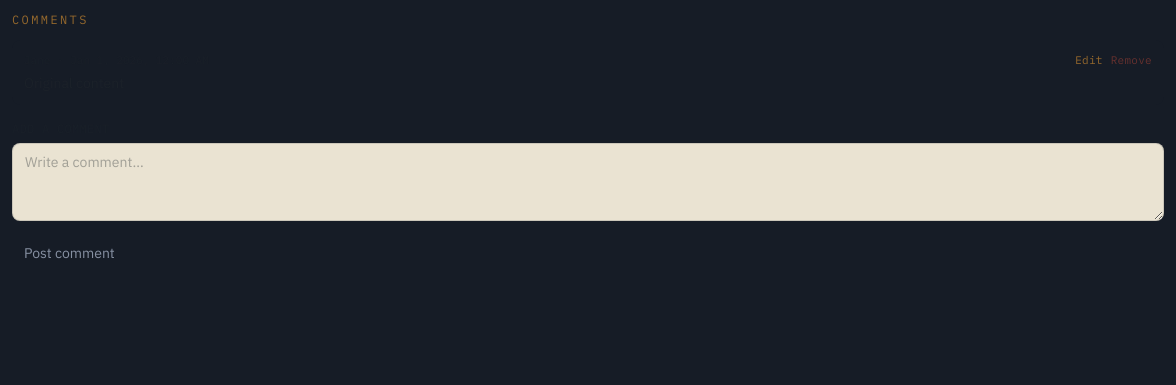
it: CommentSection › cancels the inline editor without saving
Click the button "Edit": click(1089, 60) [1075,52,1103,68]
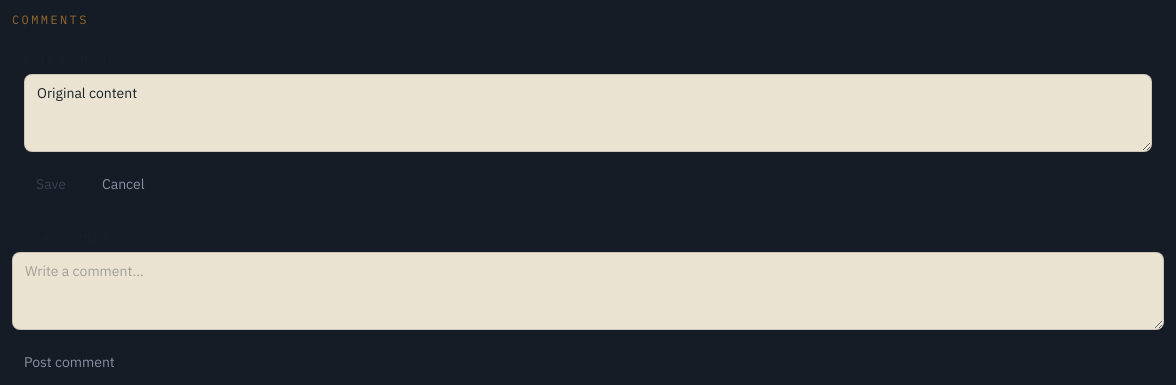
Click the button "Cancel": click(123, 184) [90,166,157,202]
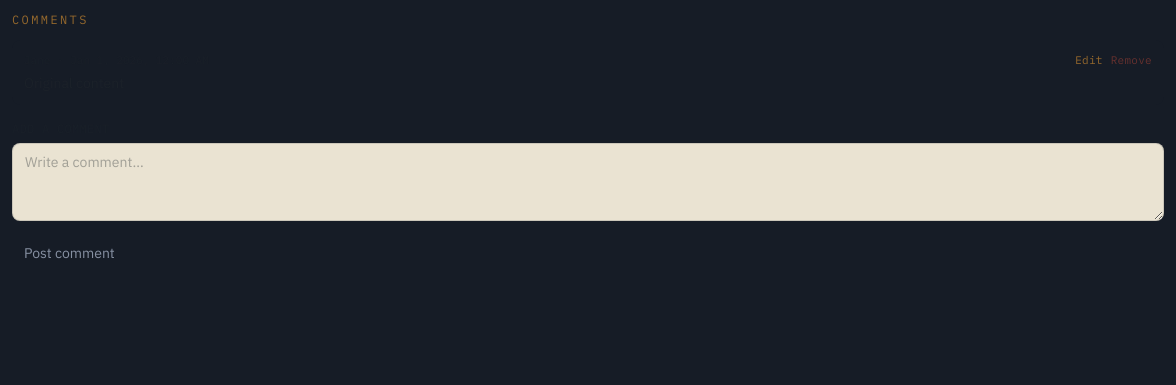
Expected: the label labelled "Edit comment" is gone
